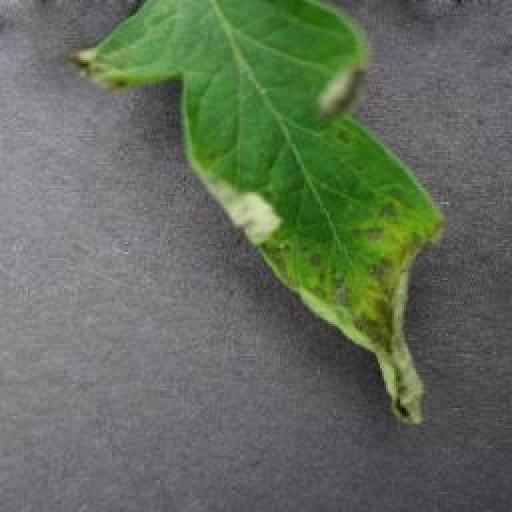disease_tomato: (70, 0, 452, 428)
